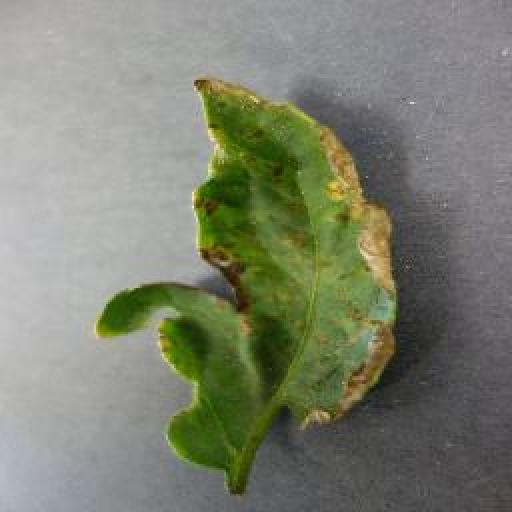Bacterial Spot: (81, 66, 415, 508)
